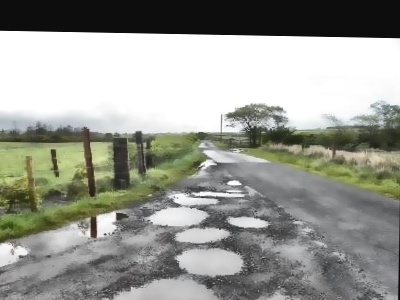pothole: (90, 272, 243, 300), (173, 244, 247, 276), (148, 204, 212, 227), (174, 224, 231, 245), (246, 286, 318, 300), (225, 213, 272, 229), (168, 193, 218, 206), (193, 191, 248, 198), (226, 178, 243, 186)
